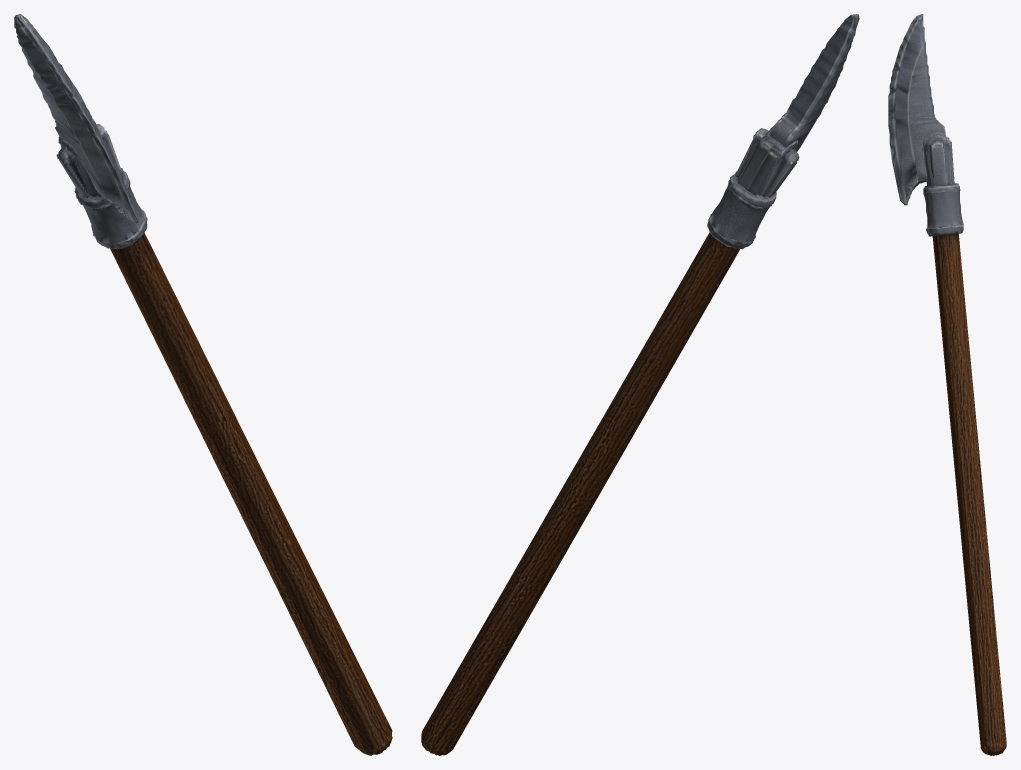
Rendered from spear.glb.
3 views of the same model, side by side, from view 1: azimuth 30°, elevation 25°; view 2: azimuth 150°, elevation 25°; view 3: azimuth 270°, elevation 25° (orthographic). The views are drawn at different scales.
Visible parts, largest first — view 1: tripo_node_37954f59-9fc4-4666-9ef1-1709ffe0fbe0; view 2: tripo_node_37954f59-9fc4-4666-9ef1-1709ffe0fbe0; view 3: tripo_node_37954f59-9fc4-4666-9ef1-1709ffe0fbe0.
Part boxes in pixels (x1,y1,x2,y2): tripo_node_37954f59-9fc4-4666-9ef1-1709ffe0fbe0: (14,14,392,755); tripo_node_37954f59-9fc4-4666-9ef1-1709ffe0fbe0: (421,14,859,755); tripo_node_37954f59-9fc4-4666-9ef1-1709ffe0fbe0: (888,14,1006,755).
Size of the model in its own units: 0.5098 by 0.998 by 0.1777.
Materials: 1 (1 with a texture image).
